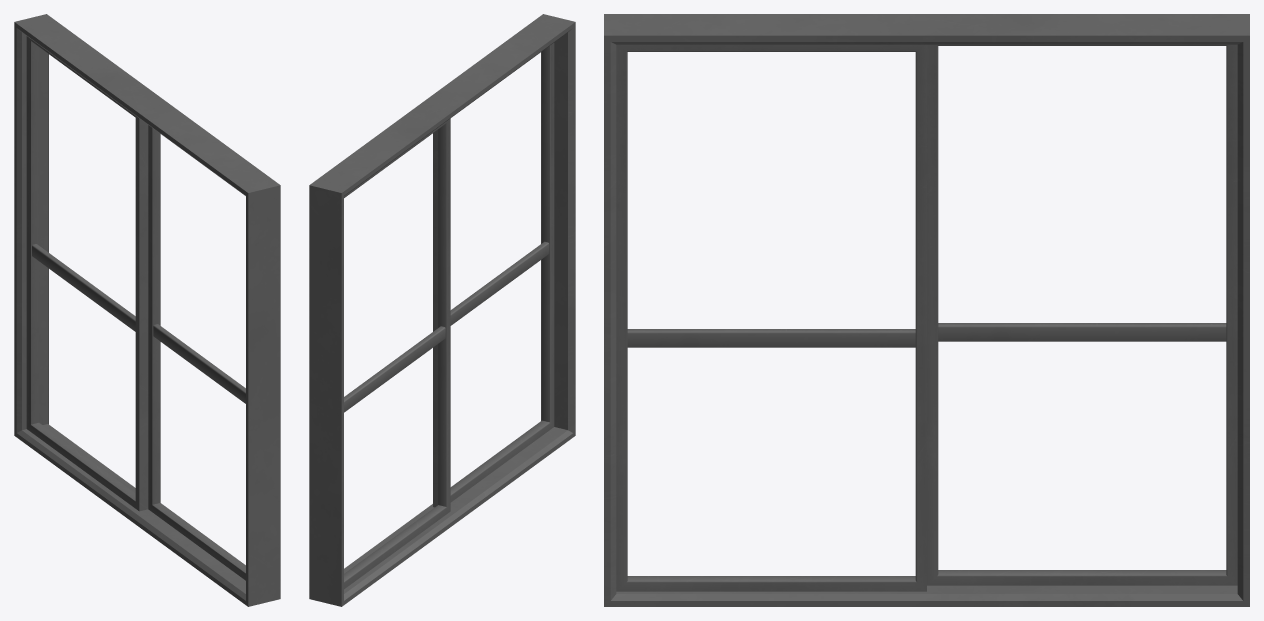
The model's file is doorBalcony.gltf.
3 renders of one model, left to right at view 1: azimuth 30°, elevation 25°; view 2: azimuth 150°, elevation 25°; view 3: azimuth 270°, elevation 25°, orthographic. The views are drawn at different scales.
Parts seen in each view (by area): view 1: door_balcony.001; view 2: door_balcony.001; view 3: door_balcony.001.
Part boxes in pixels (bbox=[...]): door_balcony.001: bbox=[14, 14, 280, 606]; door_balcony.001: bbox=[309, 14, 575, 606]; door_balcony.001: bbox=[604, 14, 1249, 606].
Bounding box in the file's own units: 0.1398 × 1.71 × 1.75.
1 material, 1 textured.
